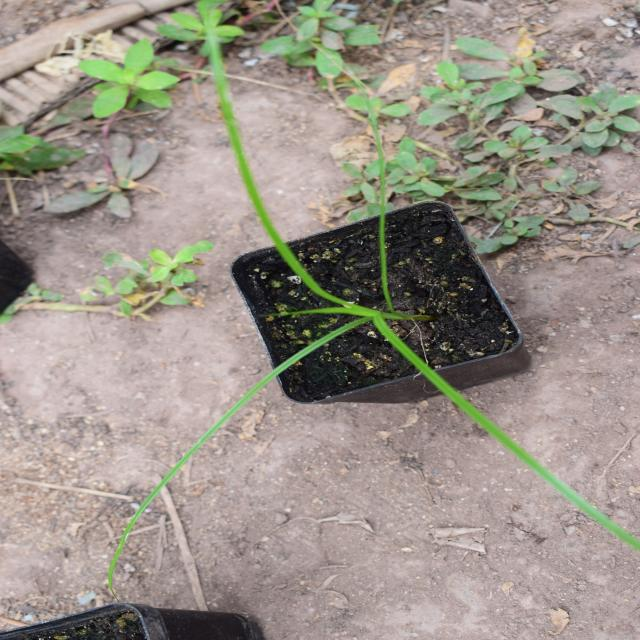sedge: (29, 107, 579, 588)
